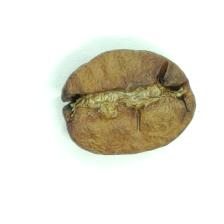NG: (67, 65, 192, 126)
